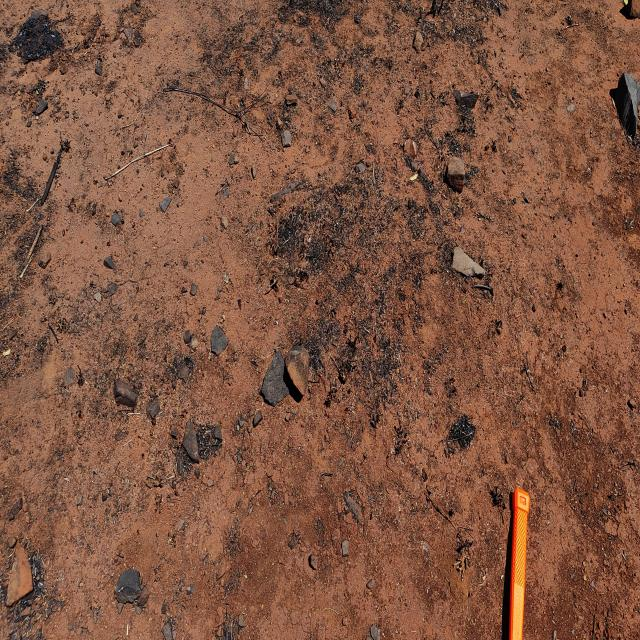Orange_hammer: (508, 486, 530, 638)
rock: (276, 336, 328, 412), (112, 363, 152, 417), (443, 157, 470, 196)
